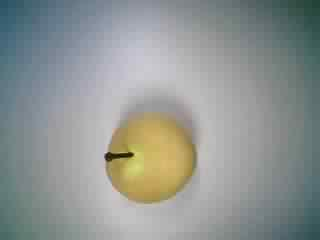pear: (86, 103, 204, 211)
